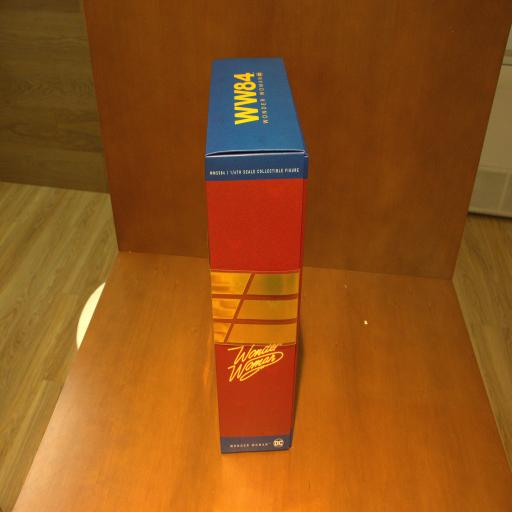WonderWoman: (206, 55, 307, 454)
